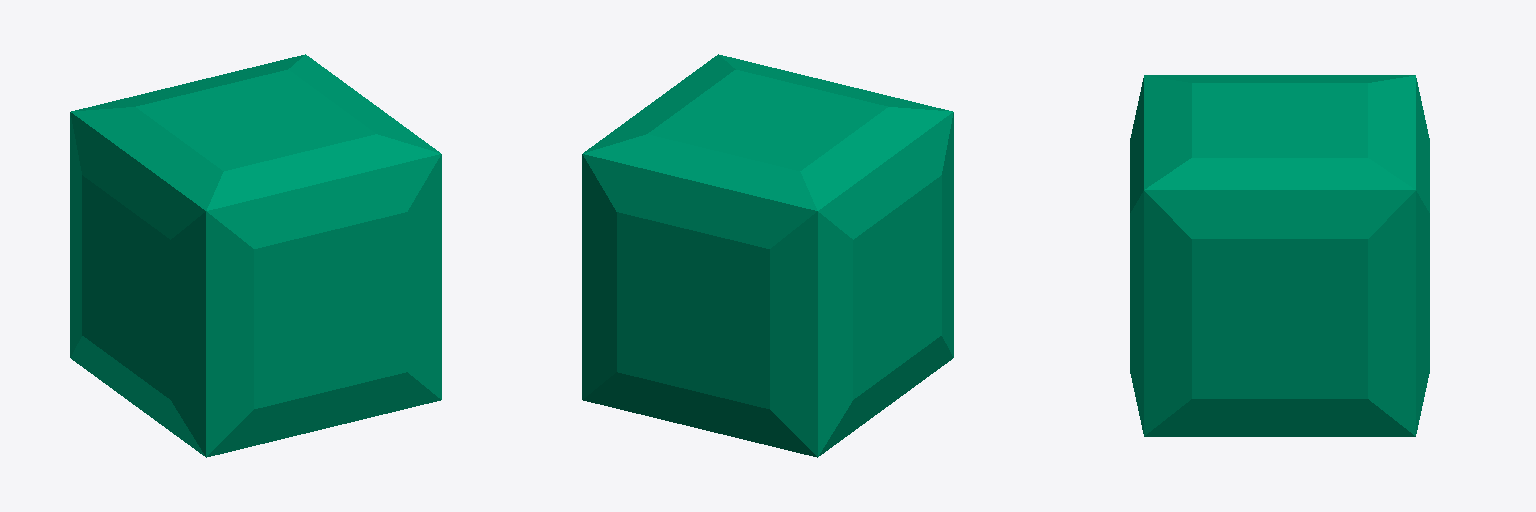
The model's file is player-jelly.obj.
The picture shows the model from 3 angles: view 1: azimuth 30°, elevation 25°; view 2: azimuth 150°, elevation 25°; view 3: azimuth 270°, elevation 25°; orthographic projection.
Parts seen in each view (by area): view 1: mergedBlocks; view 2: mergedBlocks; view 3: mergedBlocks.
Part boxes in pixels (bbox=[...]): mergedBlocks: bbox=[70, 54, 441, 457]; mergedBlocks: bbox=[582, 54, 953, 457]; mergedBlocks: bbox=[1130, 75, 1429, 436].
Bounding box in the file's own units: 1.1 × 1.1 × 1.1.